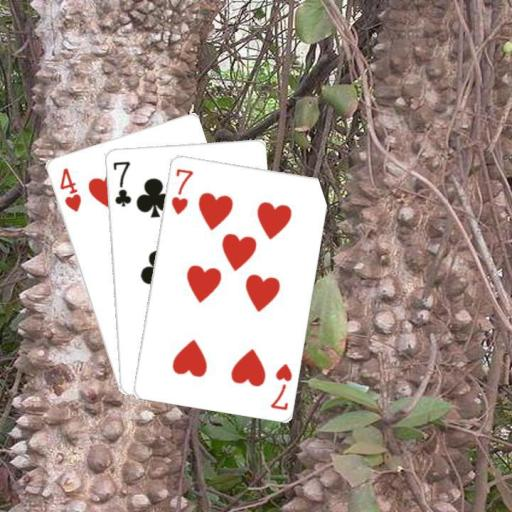4H: (56, 165, 83, 214)
7C: (110, 157, 133, 208)
7H: (267, 360, 294, 412), (168, 165, 195, 216)
